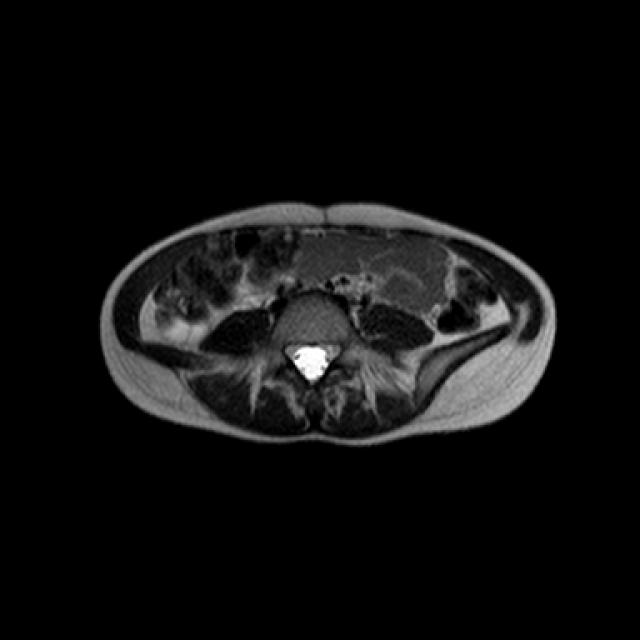sag: (166, 316, 212, 344)
